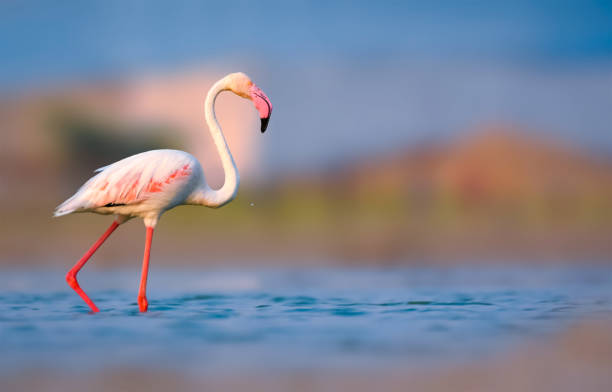Bird: (50, 67, 274, 315)
